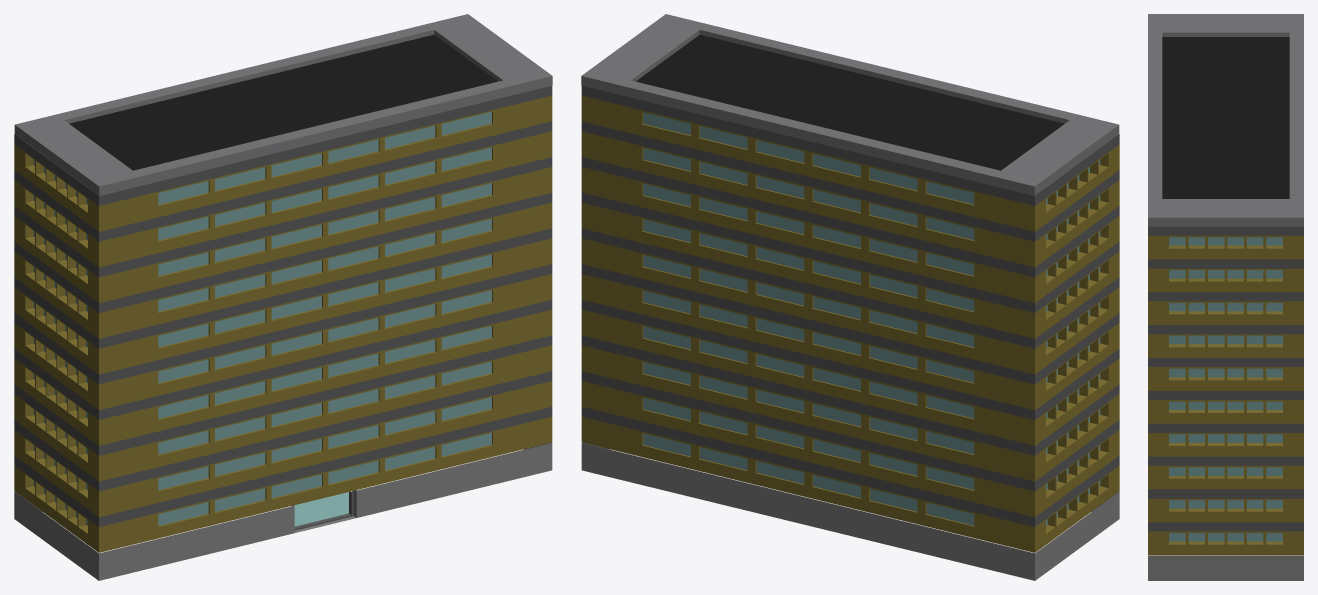
Rendered from edificio_13.fbx.
3 views of the same model, side by side, from view 1: azimuth 30°, elevation 25°; view 2: azimuth 150°, elevation 25°; view 3: azimuth 270°, elevation 25° (orthographic). The views are drawn at different scales.
Parts seen in each view (by area): view 1: Cube.003; view 2: Cube.003; view 3: Cube.003.
Part boxes in pixels (x1,y1,x2,y2): Cube.003: (14,14,552,580); Cube.003: (581,14,1119,580); Cube.003: (1148,14,1303,580).
Bounding box in the file's own units: 12388 × 10289 × 4002.
